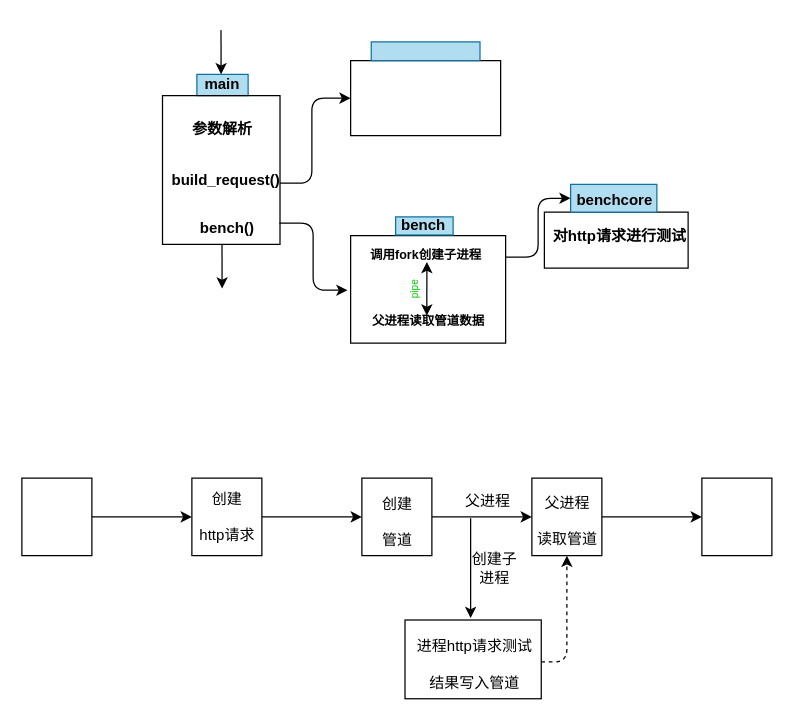
This 794x721 diagram has some shape labels left out. Each missing label, with the centre of its shape:
"build_request" goes at (x=425, y=51).
"创建http连接请求" goes at (x=425, y=97).
"参数 解析" goes at (x=56, y=516).
"输出 结果" goes at (x=736, y=516).
